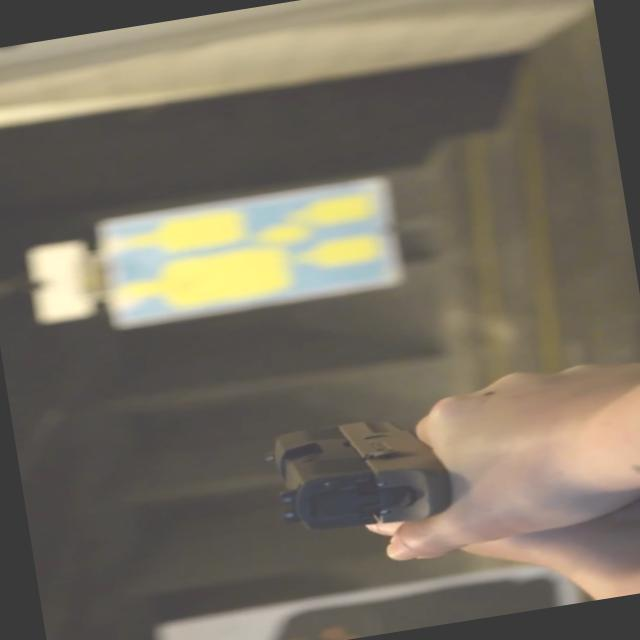handgun: (242, 365, 570, 560)
